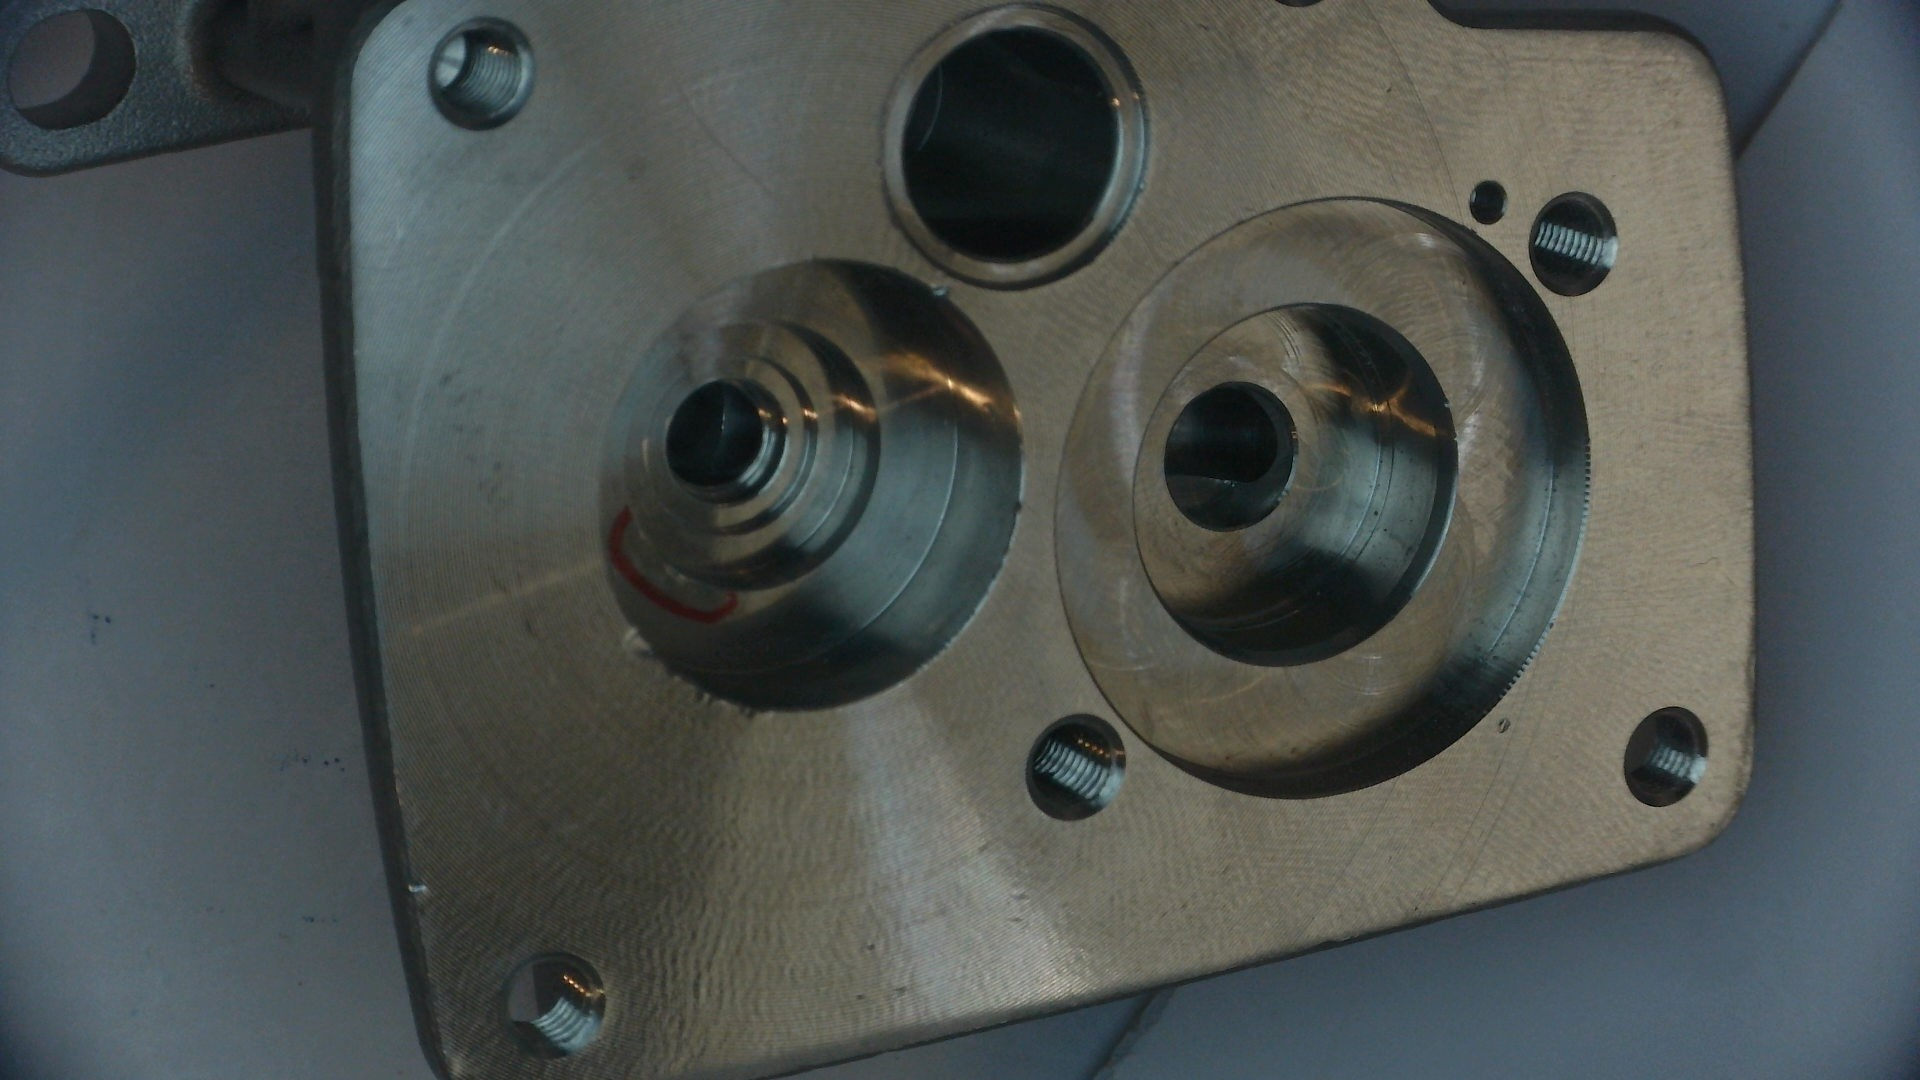dent: (620, 622, 654, 659), (927, 282, 952, 301), (405, 880, 429, 898), (1494, 716, 1514, 735), (1195, 20, 1211, 36), (1010, 498, 1025, 516), (1108, 94, 1124, 108), (1130, 87, 1143, 103), (1385, 84, 1395, 95)
thread_presence: (439, 22, 524, 117), (512, 957, 595, 1051), (1029, 721, 1113, 806), (1531, 196, 1606, 276), (1629, 709, 1697, 793)
